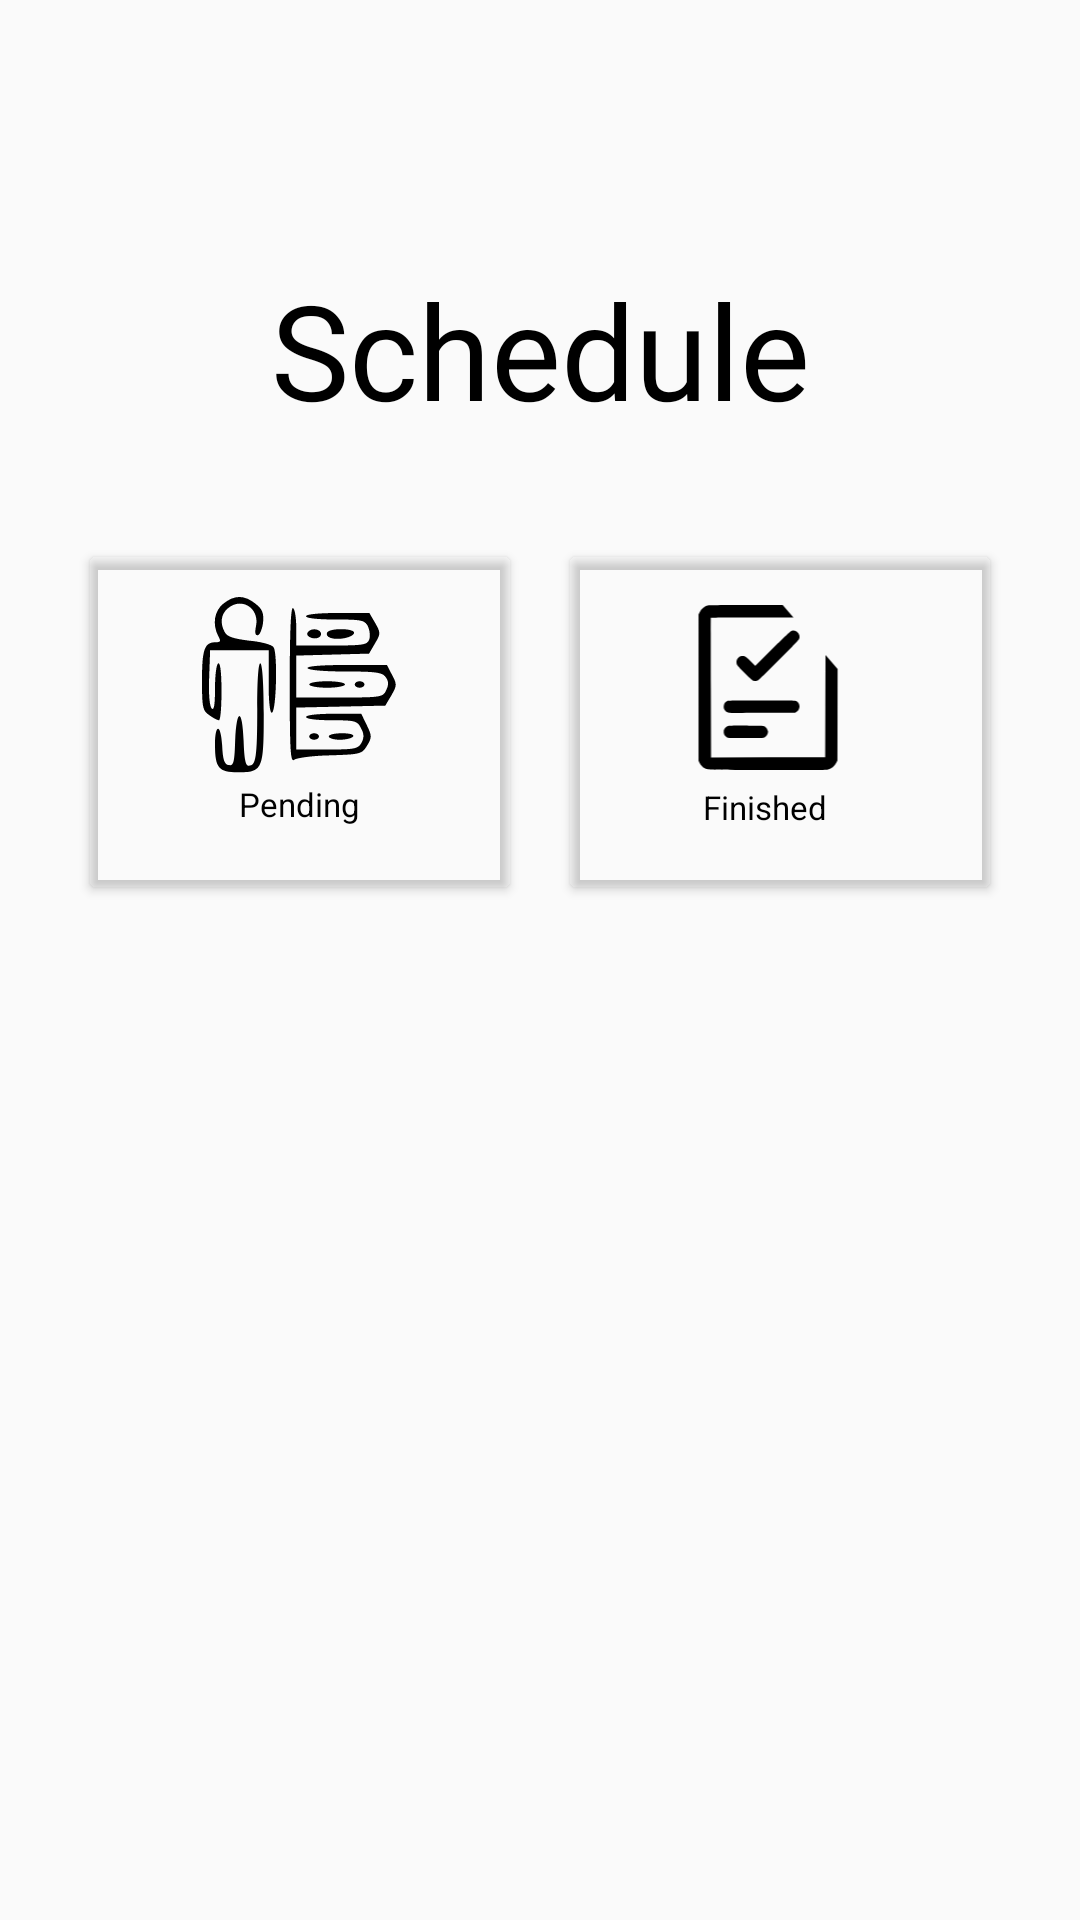

Icons on this 1080 x 1920 Android screen, each with the point to tap as (x=x, y=y):
personinfo: (x=299, y=685)
